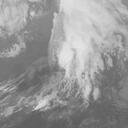cyclone: (46, 44, 94, 95)
